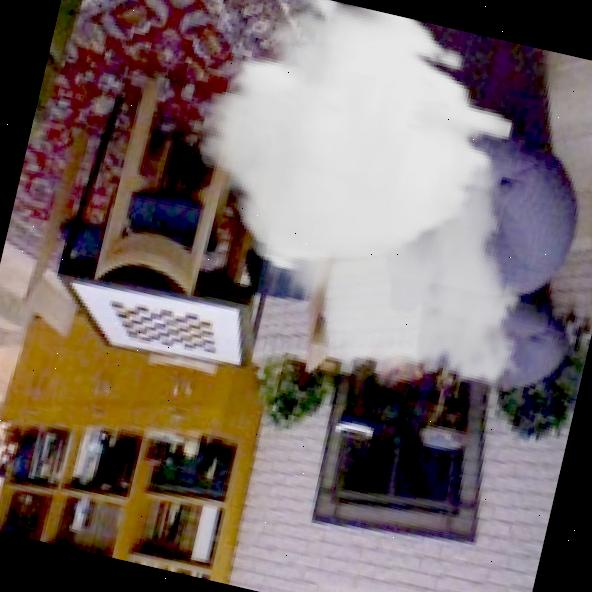smoke: (155, 0, 592, 417)
